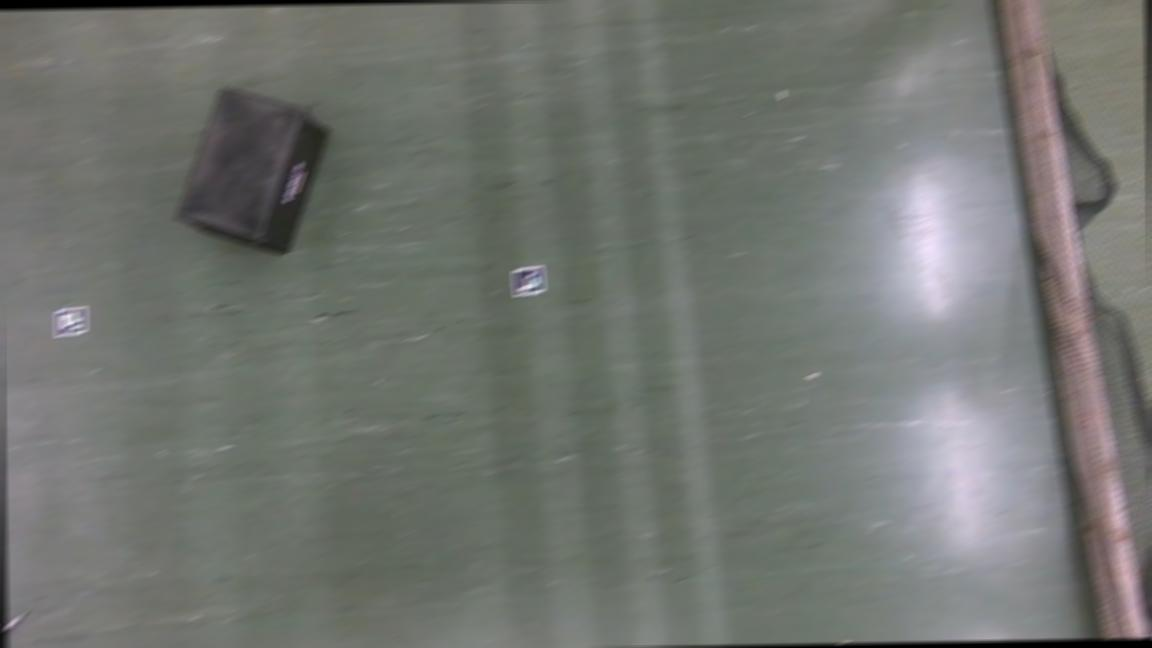probes: (4, 612, 26, 648)
rako: (172, 86, 334, 259)
